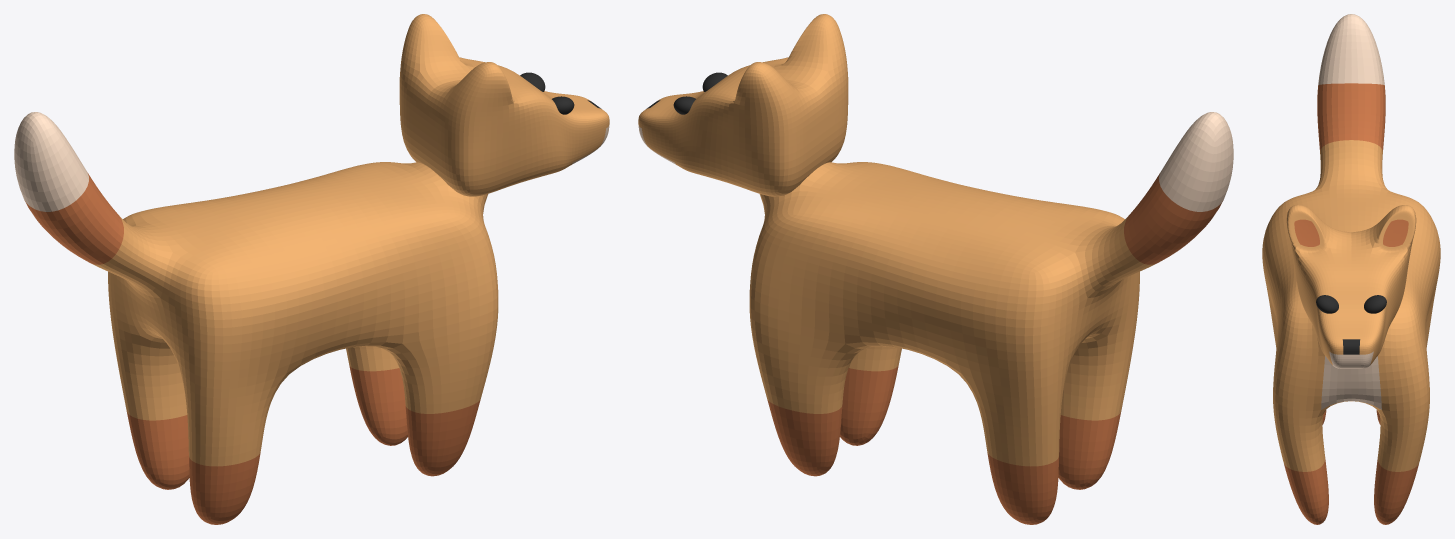
Rendered from Fox.fbx.
The picture shows the model from 3 angles, left to right: view 1: azimuth 30°, elevation 25°; view 2: azimuth 150°, elevation 25°; view 3: azimuth 270°, elevation 25°; orthographic projection. The views are drawn at different scales.
Parts seen in each view (by area): view 1: Fox; view 2: Fox; view 3: Fox.
Part boxes in pixels (left/top/right/bottom): Fox: left=14, top=14, right=609, bottom=524; Fox: left=638, top=14, right=1233, bottom=524; Fox: left=1262, top=14, right=1440, bottom=524.
Bounding box in the file's own units: 765 × 552 × 249.
